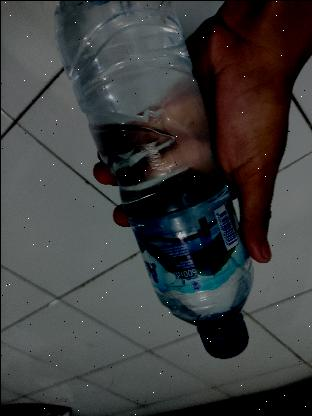Plastic Bottle: (46, 0, 250, 360)
